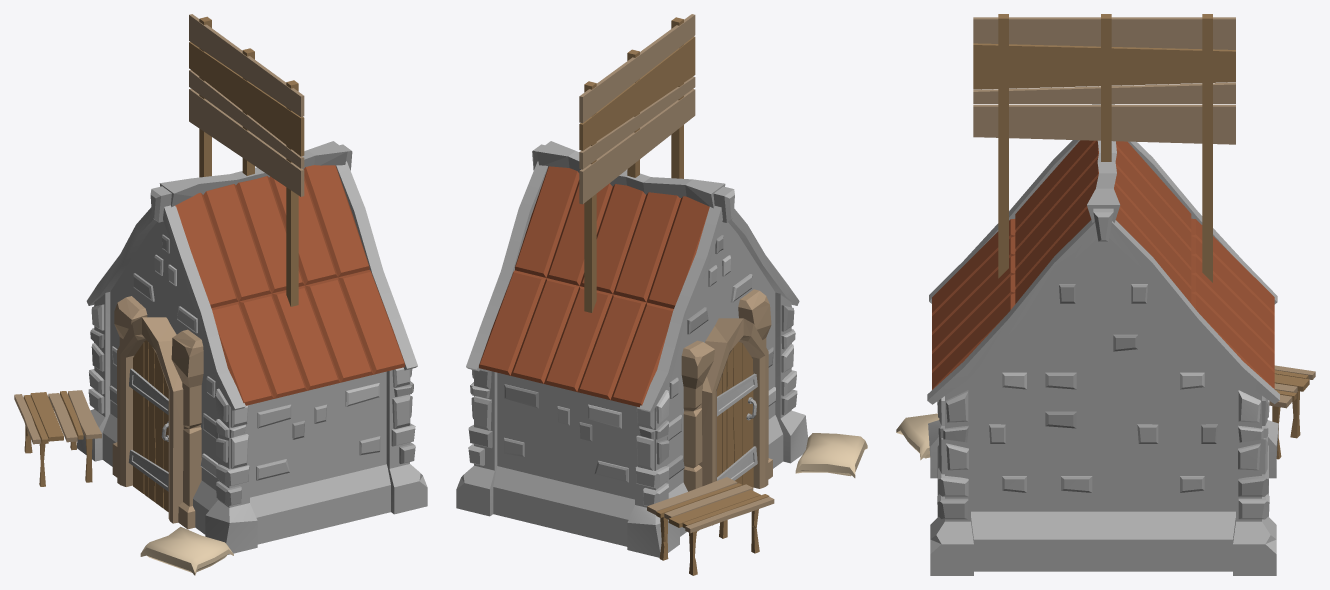
Rendered from BlankService.fbx.
3 views of the same model, side by side, from view 1: azimuth 30°, elevation 25°; view 2: azimuth 150°, elevation 25°; view 3: azimuth 270°, elevation 25° (orthographic). The views are drawn at different scales.
Parts seen in each view (by area): view 1: Blank Service; view 2: Blank Service; view 3: Blank Service.
Boxes of the visible parts, bbox=[...] form: Blank Service: bbox=[14, 14, 427, 575]; Blank Service: bbox=[456, 14, 867, 575]; Blank Service: bbox=[896, 14, 1315, 575].
Bounding box in the file's own units: 233 × 336 × 255.
